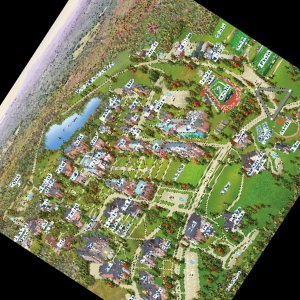triangle: (250, 79, 295, 123)
